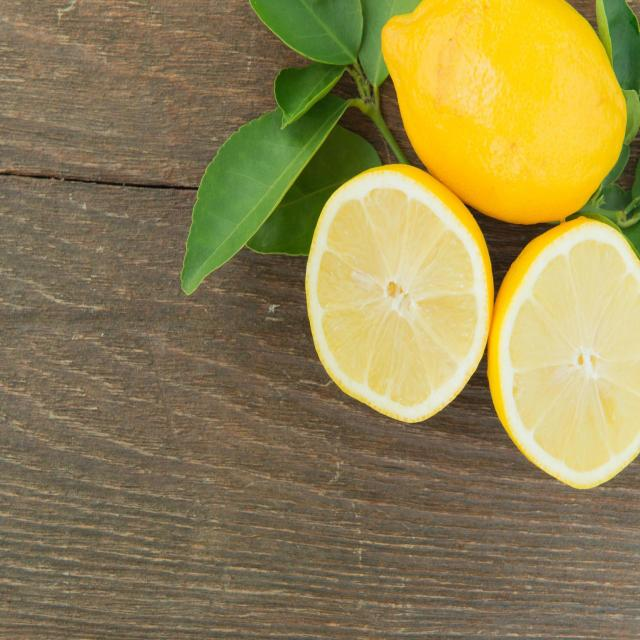lemon: (370, 1, 637, 266), (301, 159, 496, 427), (481, 210, 640, 503)
